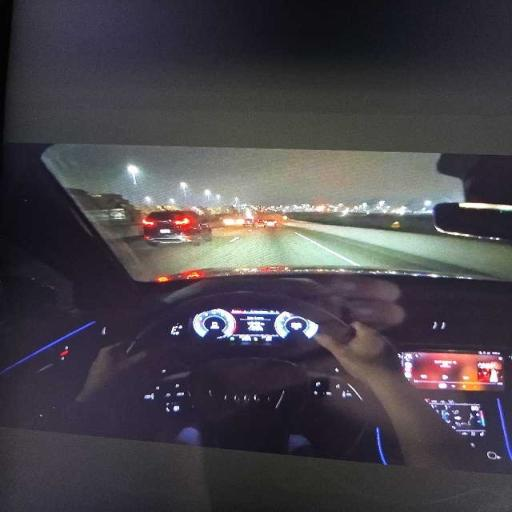car: (142, 211, 211, 245), (254, 218, 266, 227), (264, 220, 278, 227)
lane: (130, 226, 474, 278), (290, 222, 511, 279), (295, 227, 474, 274)
person: (284, 279, 482, 469)
